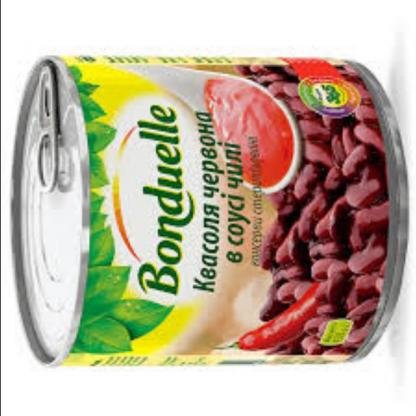fasol: (244, 63, 385, 323)
